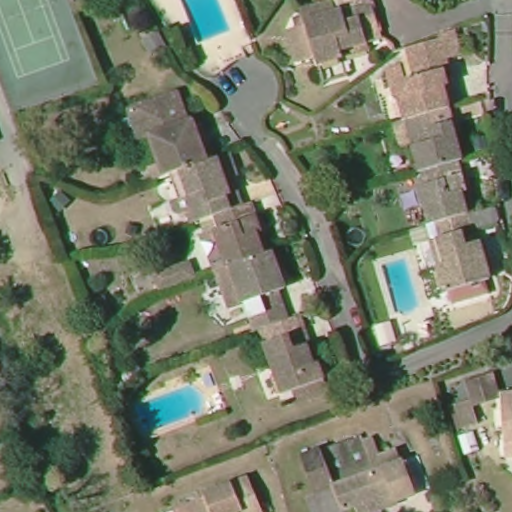pool: (134, 388, 216, 435), (177, 1, 235, 49), (380, 253, 423, 316)
